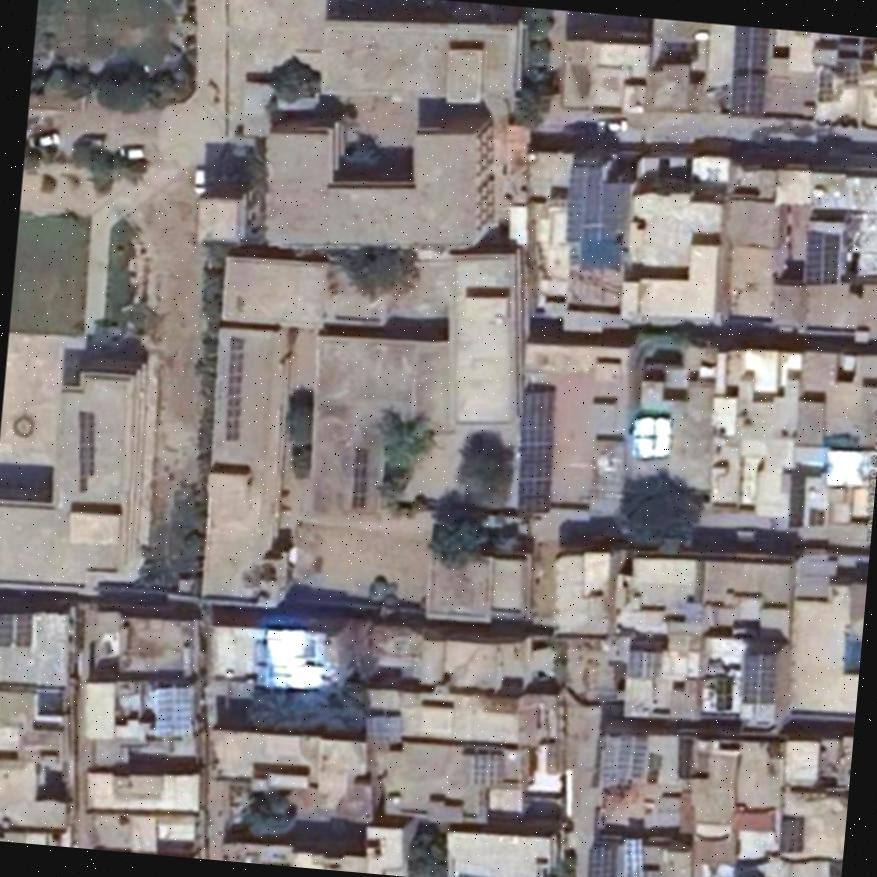Solarpanel: (567, 166, 628, 241), (518, 390, 548, 512), (731, 24, 769, 117), (599, 736, 644, 785), (152, 686, 192, 738), (223, 335, 241, 438), (803, 229, 836, 285), (742, 653, 772, 703), (622, 838, 656, 877), (77, 411, 93, 492), (0, 612, 29, 647), (365, 713, 399, 742), (588, 842, 613, 877), (472, 753, 500, 784), (351, 448, 364, 506), (780, 817, 801, 849)
